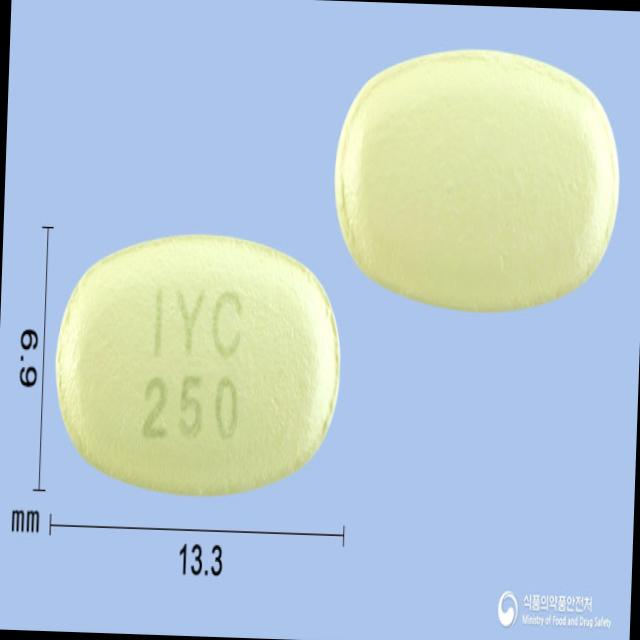Clafacin -500mg: (47, 221, 349, 508)
